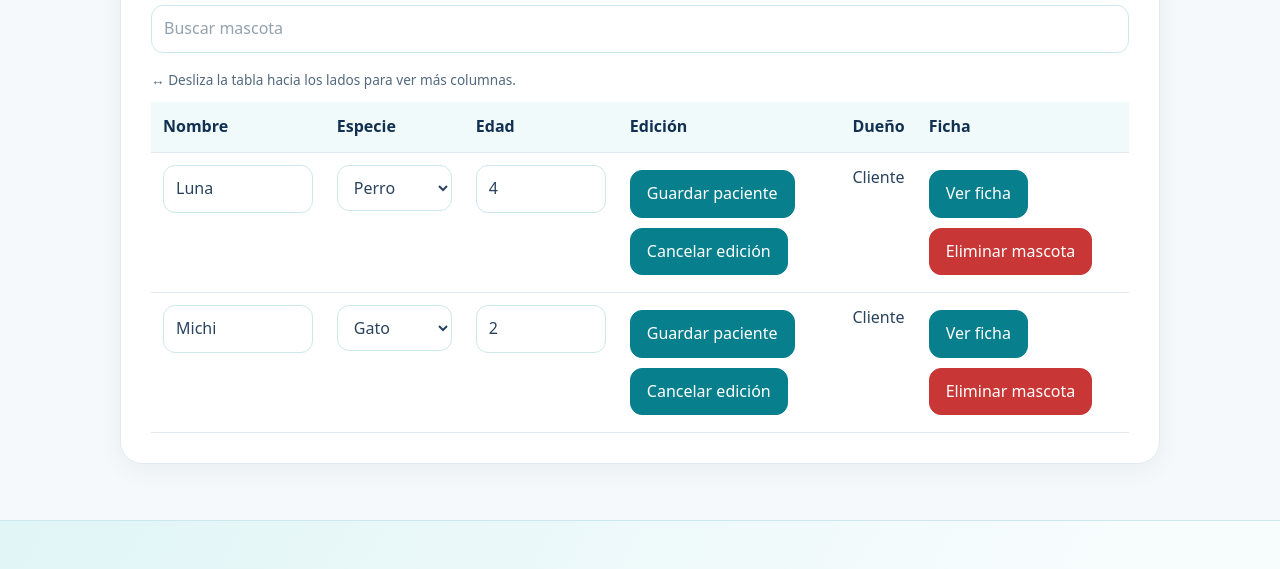
Test: Edición validada de registros › rechaza edades inválidas de pacientes
The width and height of the screenshot is (1280, 569).
(page scrolled)
Replace the text in the number field named "Edad 2" with "41" at (541, 329), box [476,305,606,353]
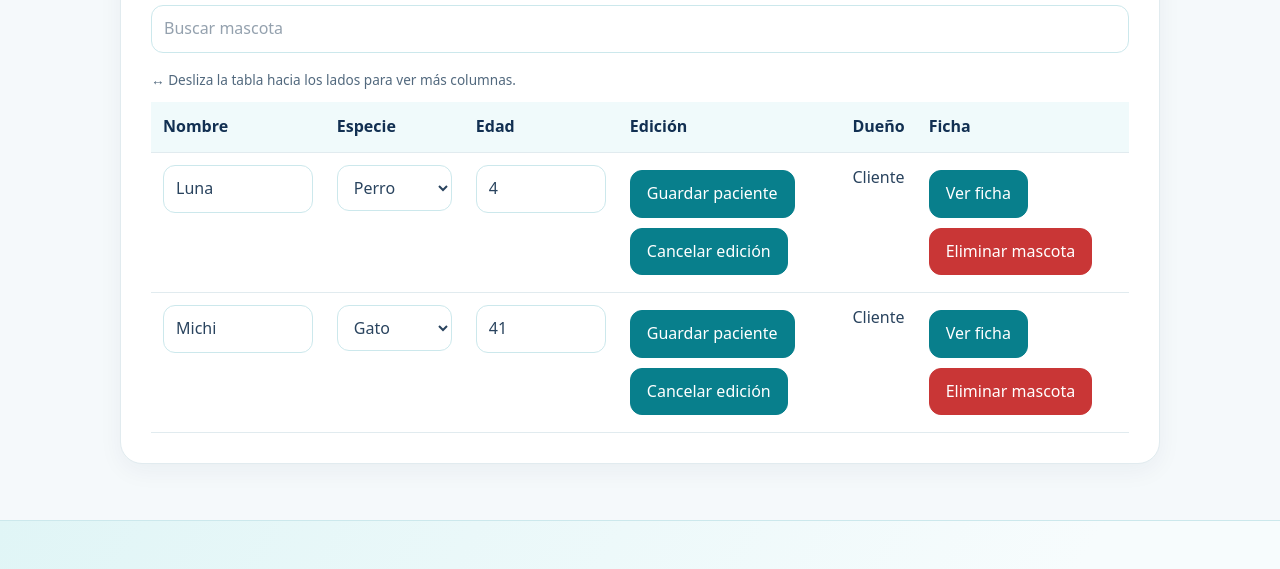
Click the 2nd button "Guardar paciente" at (712, 334), box [630,310,794,358]
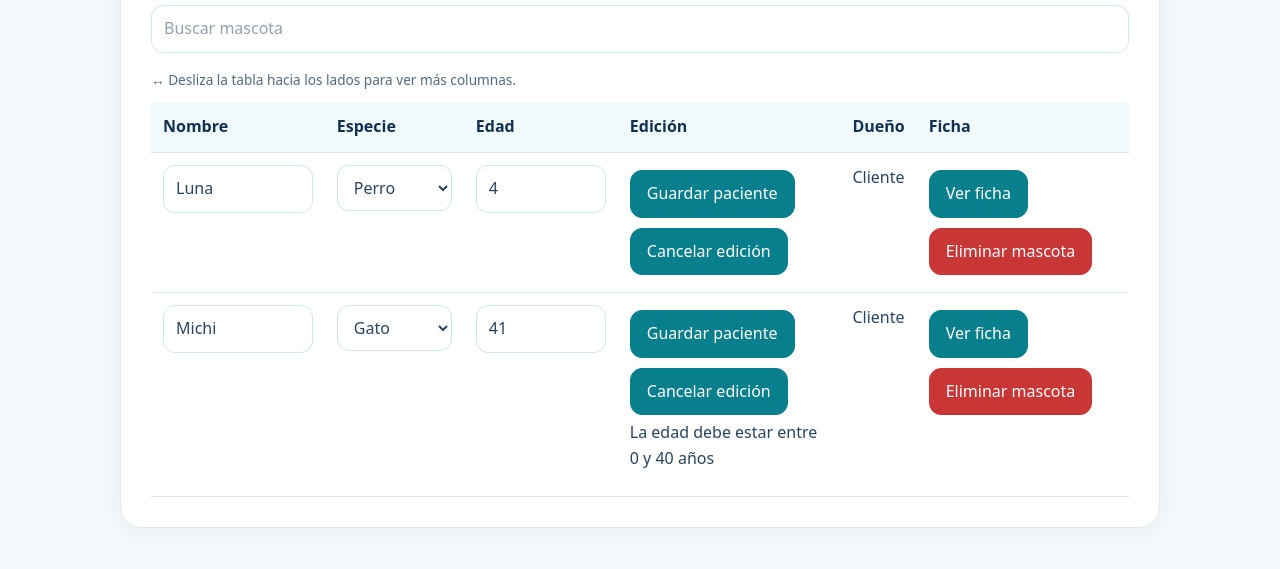
Check: the message reads "La edad debe estar entre 0 y 40 años", box [630,422,817,469]
